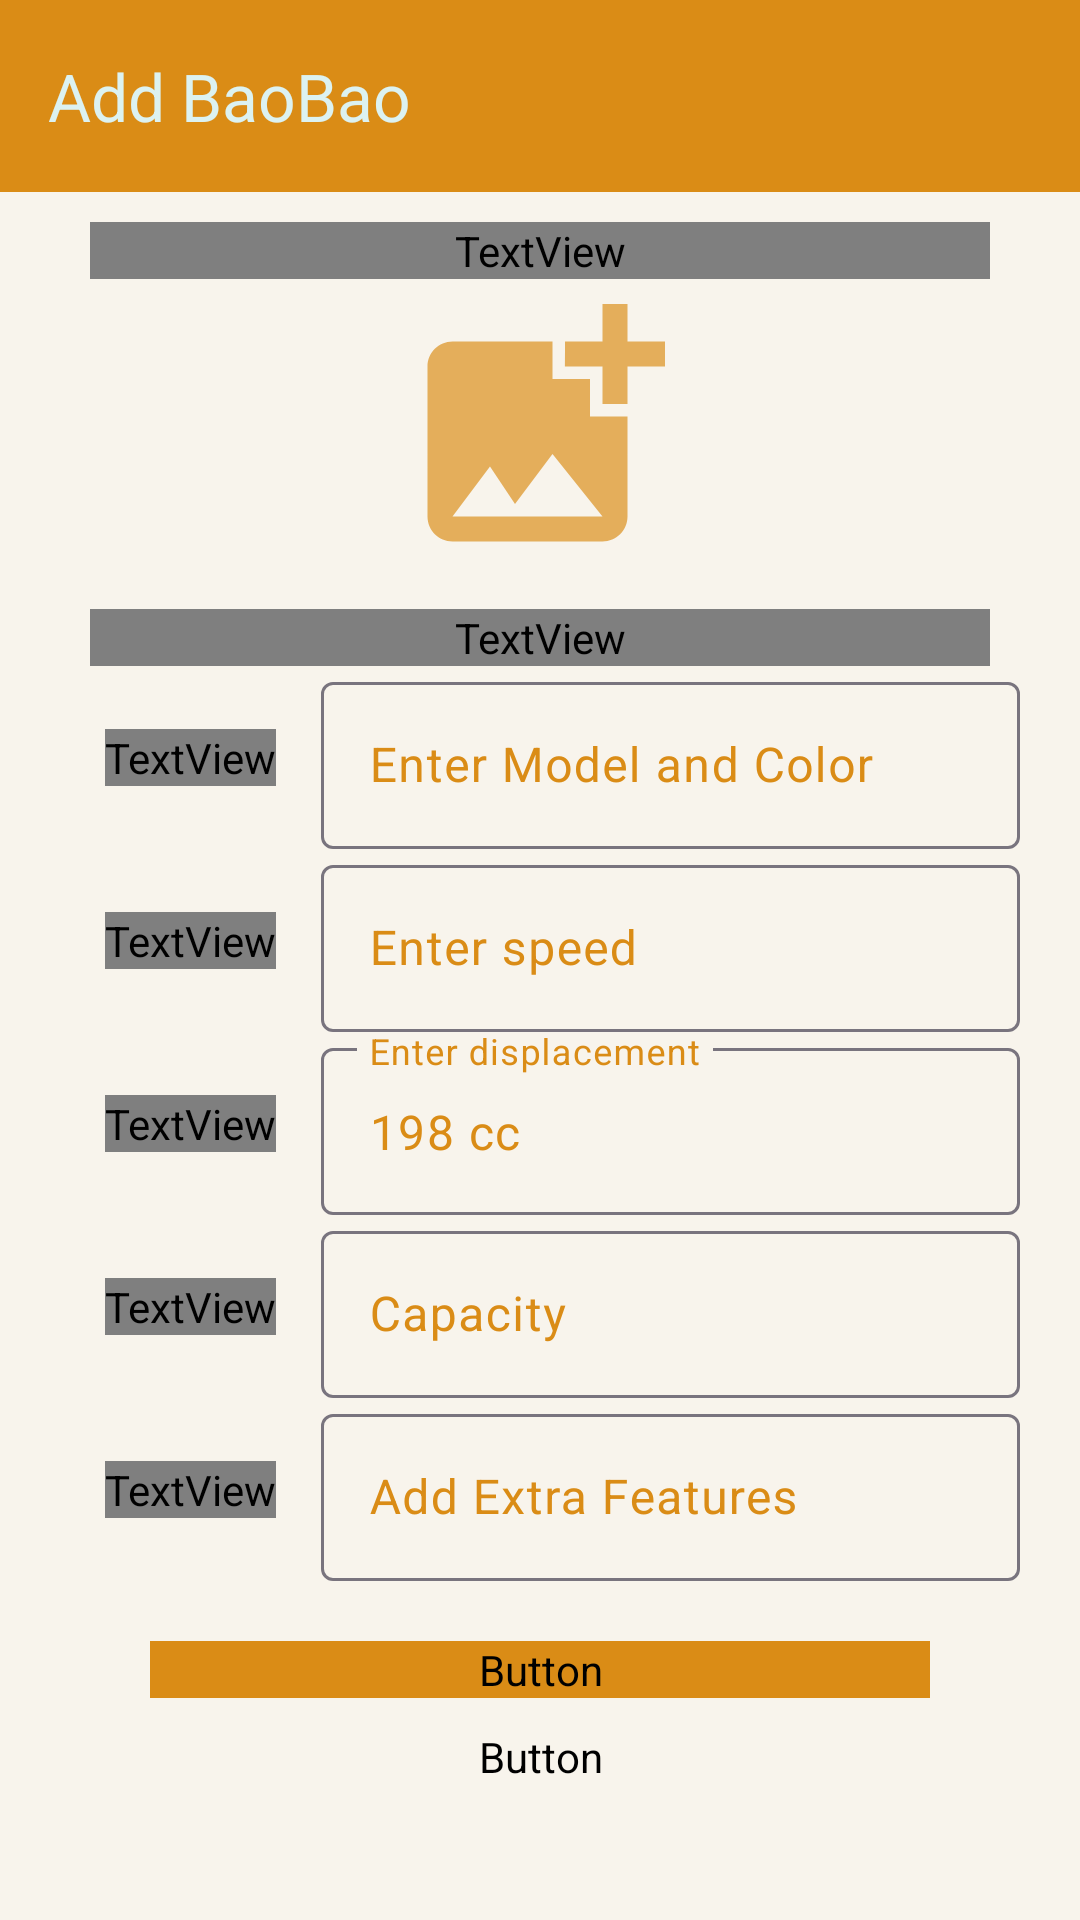

Screen size 1080px×1920px. Icon name, then its center in pixels as (x=x, y=y):
add photo alternate: (x=546, y=423)
